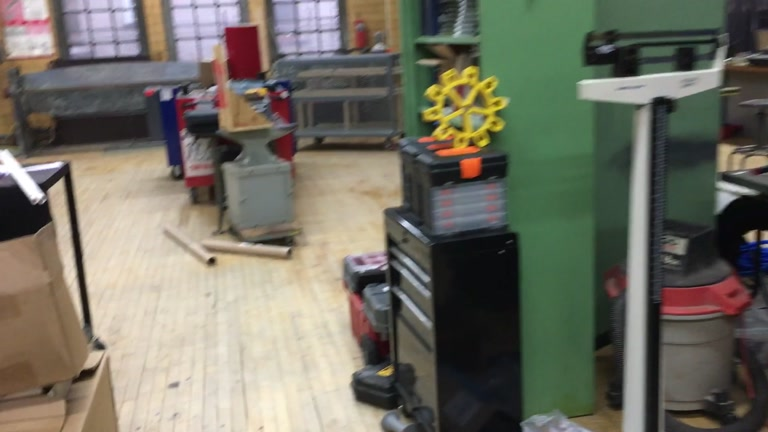gear: (422, 65, 507, 153)
